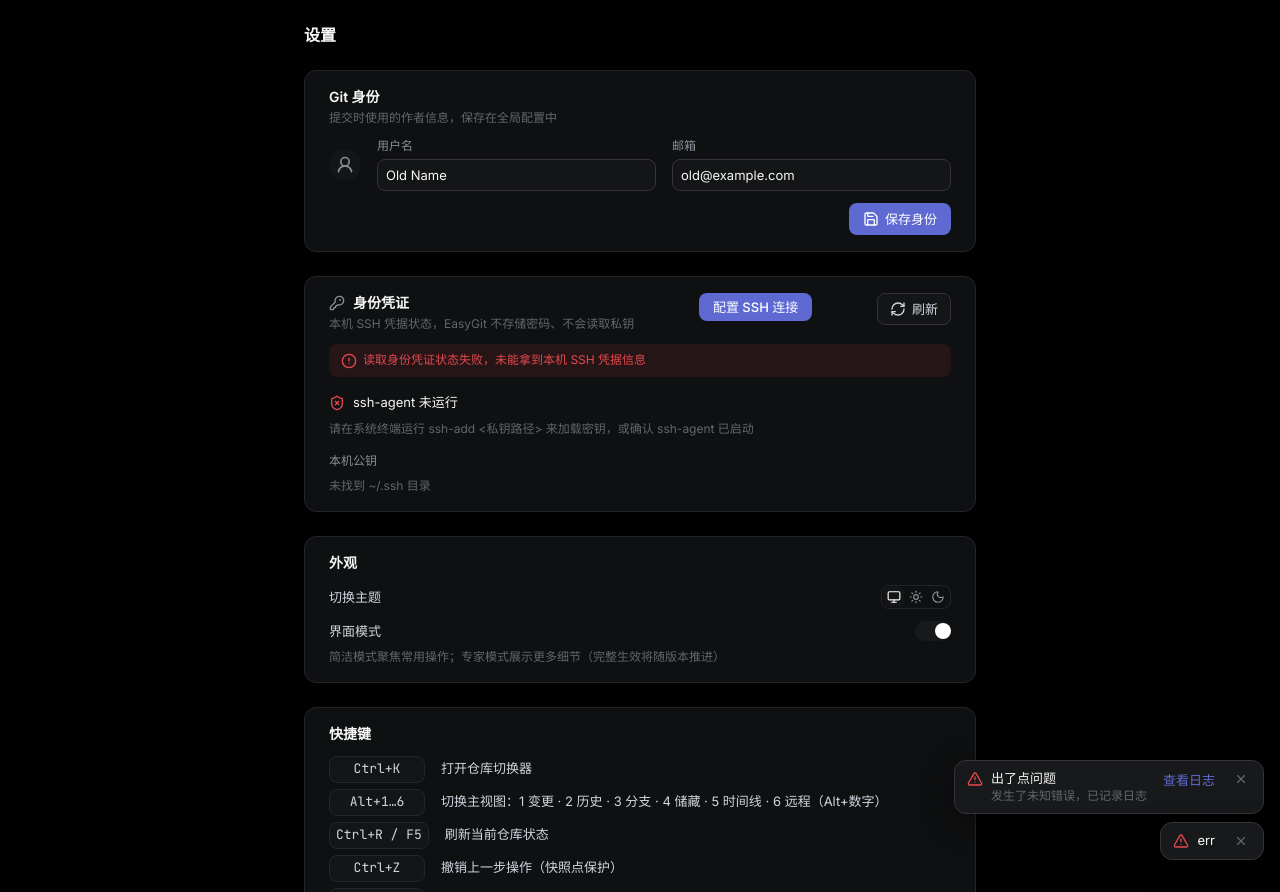
Test: SettingsPage (F-14) › rejects an empty identity with an error toast
Clear the field with test id "settings-name" at (516, 175), box 377,159 -> 656,191
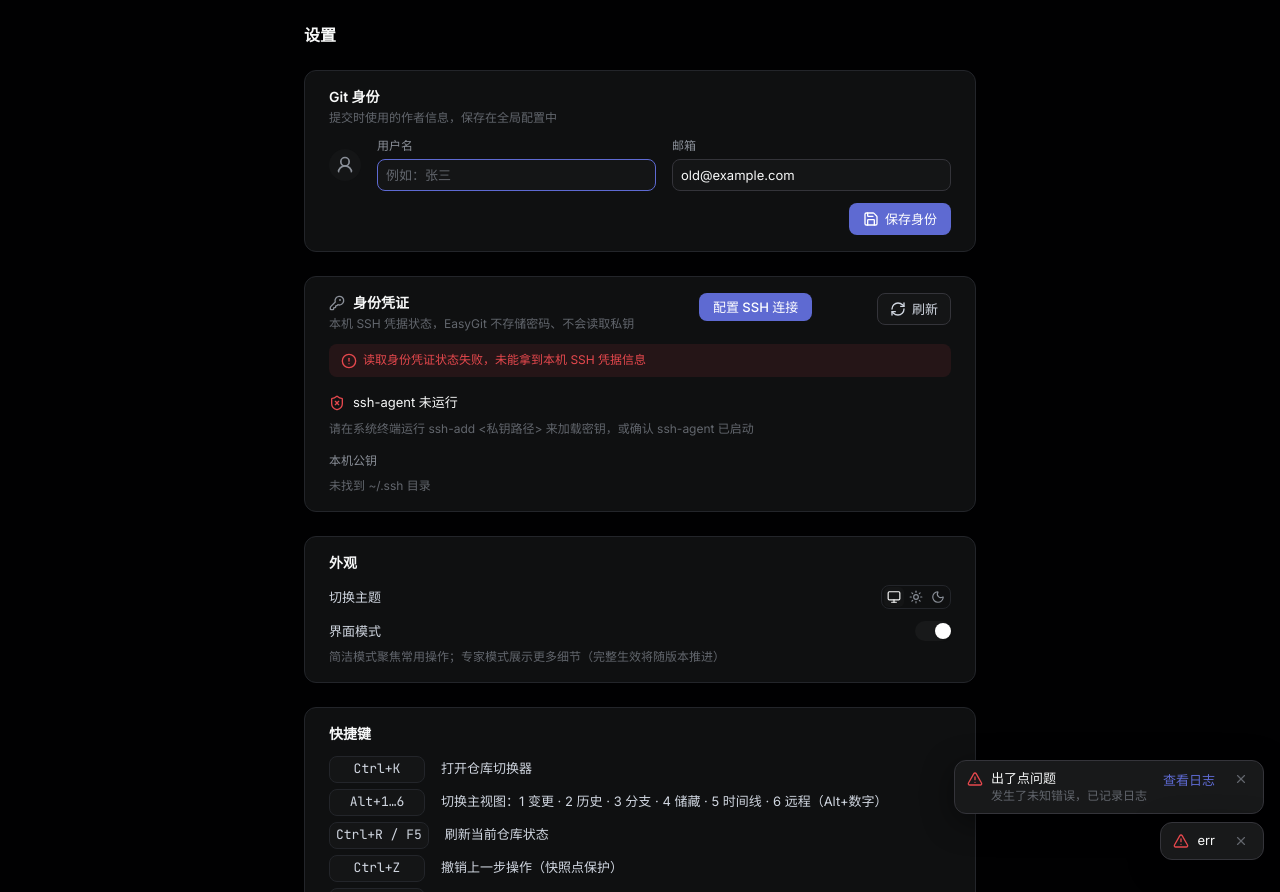
Clear the field with test id "settings-email" at (812, 175), box 672,159 -> 951,191
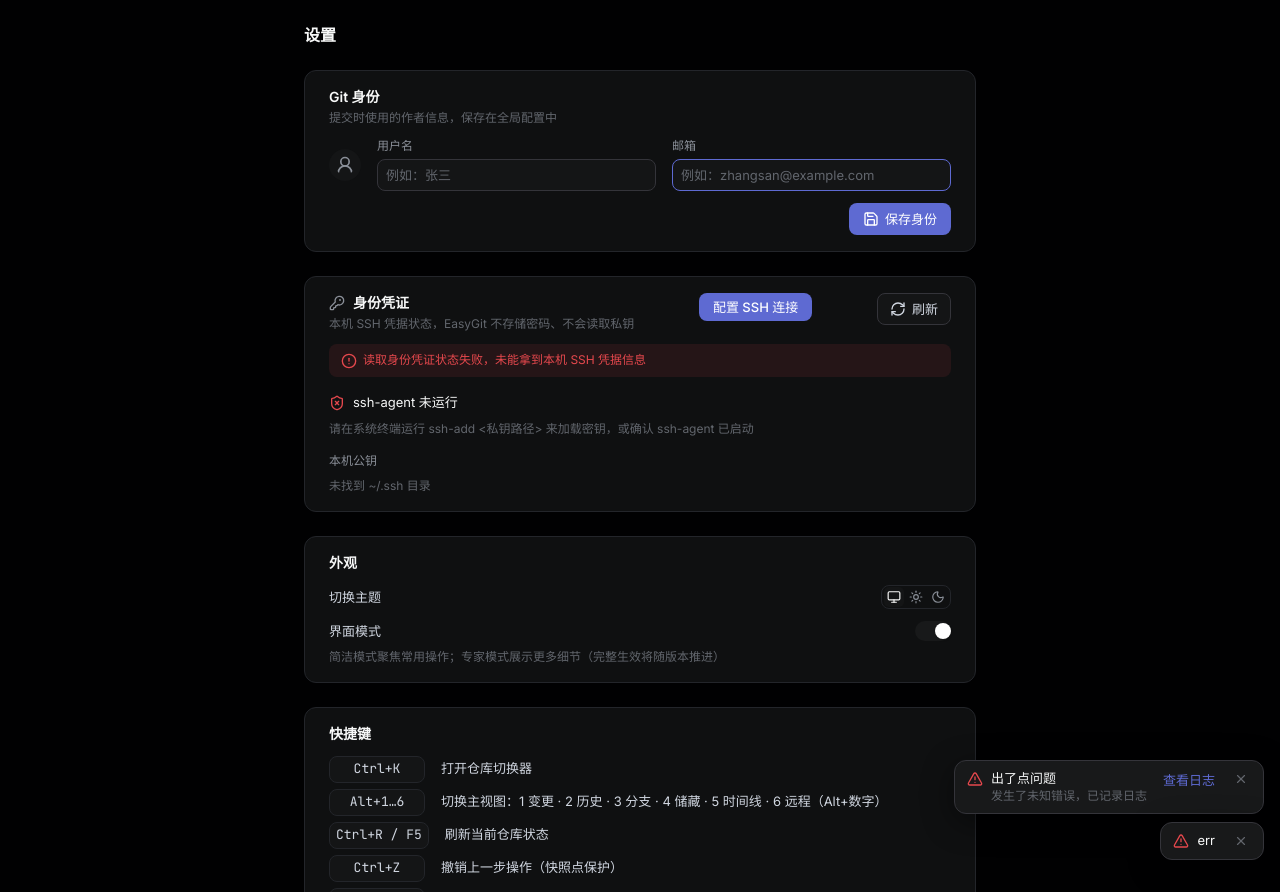
Click the button with test id "settings-save".
click(900, 219)  # box 849,203 -> 951,235
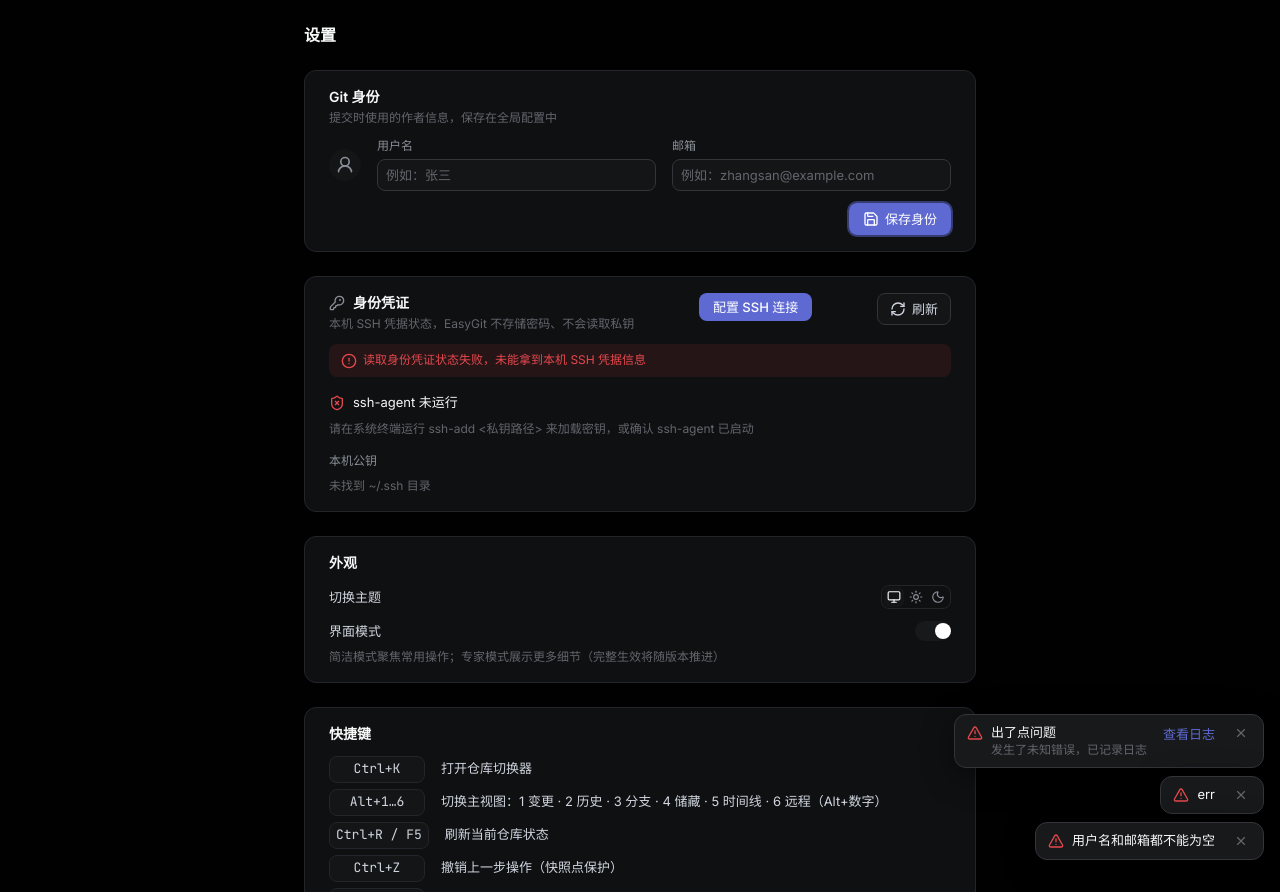
Expected: the text "用户名和邮箱都不能为空" is shown, 1072,831 -> 1215,850
